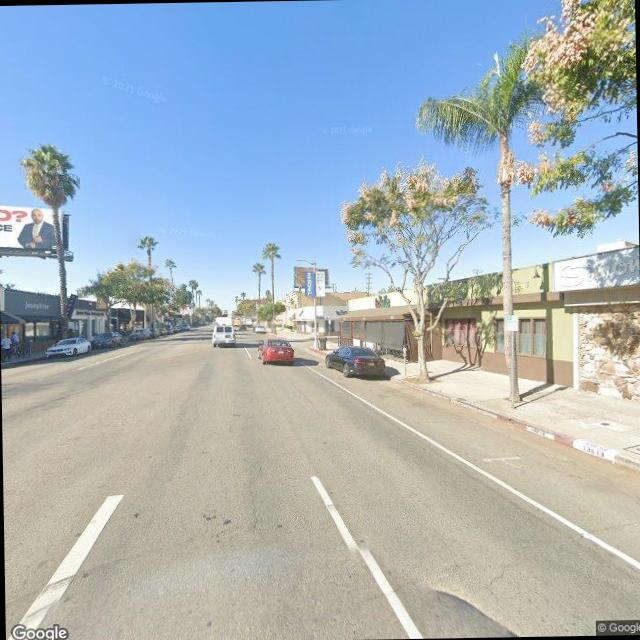pothole: (240, 464, 262, 534)
